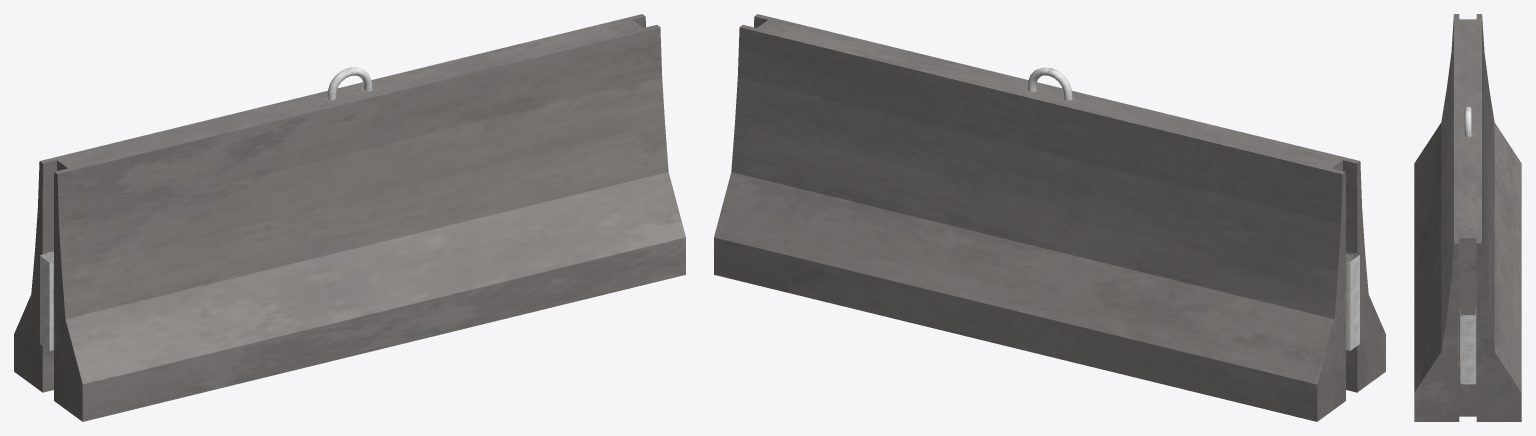
The model's file is parapet_guardrail_unit.glb.
3 renders of one model, left to right at view 1: azimuth 30°, elevation 25°; view 2: azimuth 150°, elevation 25°; view 3: azimuth 270°, elevation 25°, orthographic. The views are drawn at different scales.
Visible parts, largest first — view 1: parapet_guardrail_unit.001; view 2: parapet_guardrail_unit.001; view 3: parapet_guardrail_unit.001.
Boxes of the visible parts, left/top/right/bottom form: parapet_guardrail_unit.001: left=14, top=14, right=685, bottom=421; parapet_guardrail_unit.001: left=714, top=14, right=1385, bottom=421; parapet_guardrail_unit.001: left=1414, top=14, right=1521, bottom=421.
Bounding box in the file's own units: 2.8 × 1.12 × 0.5473.
Materials: 1 (1 with a texture image).
